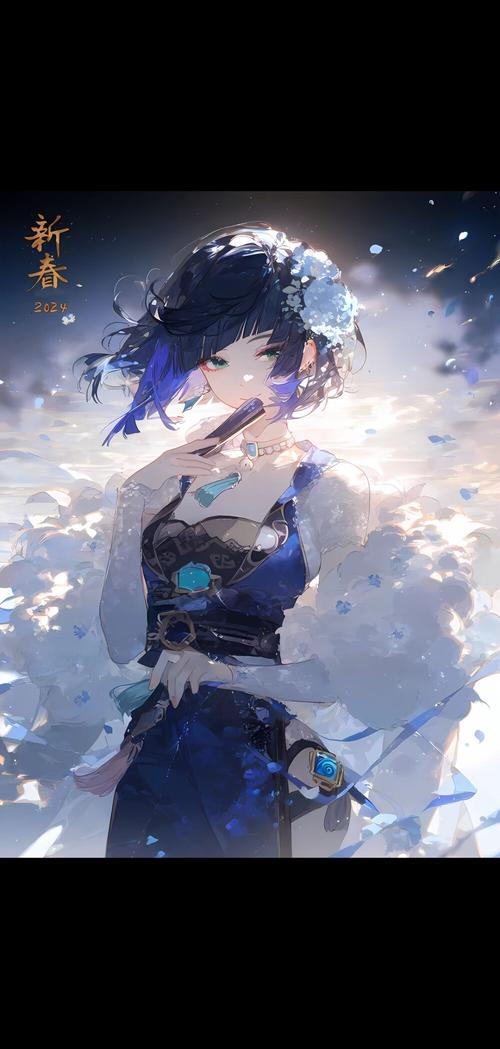夜兰: (91, 228, 376, 874)
